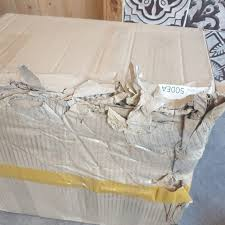damaged package: (17, 69, 224, 149)
